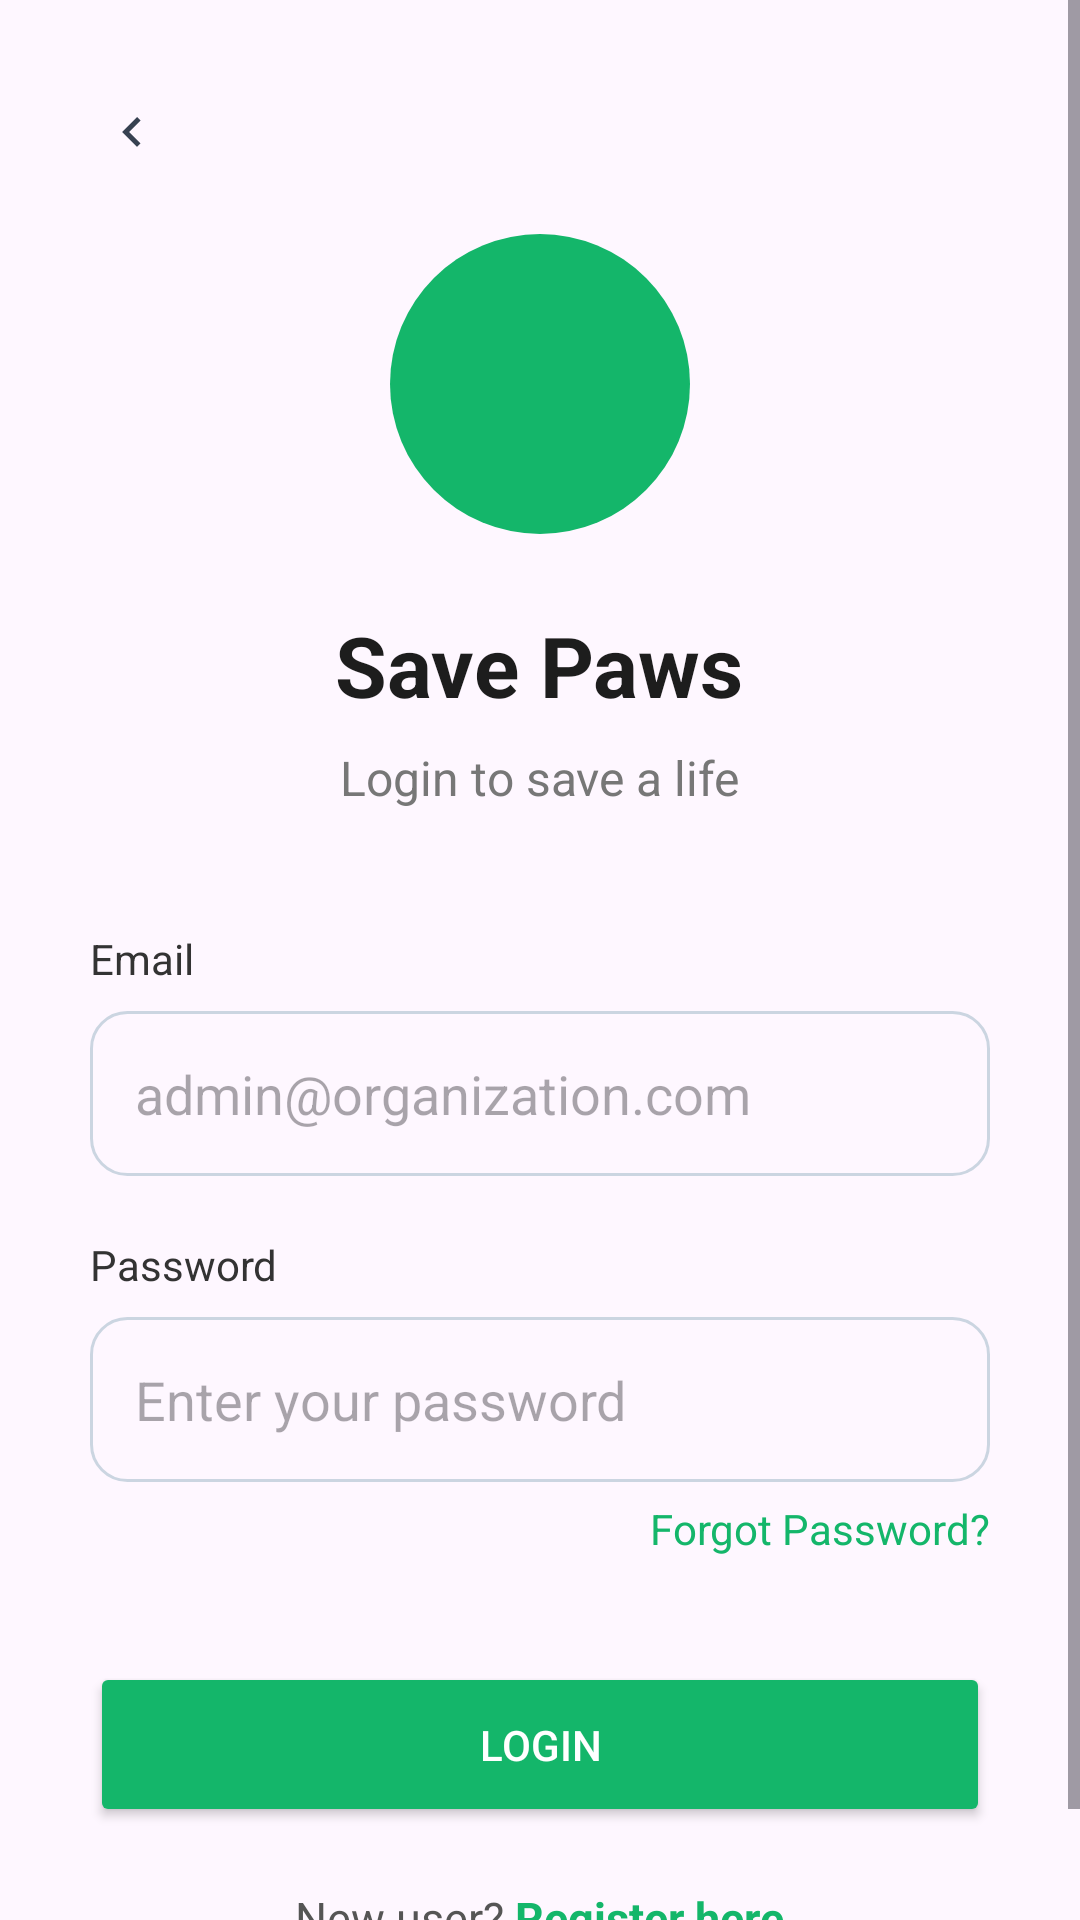

Icons on this 1080x1920 Android screen, each with its box as (x1, y1, x2, y2):
back: (122, 117, 141, 147)
